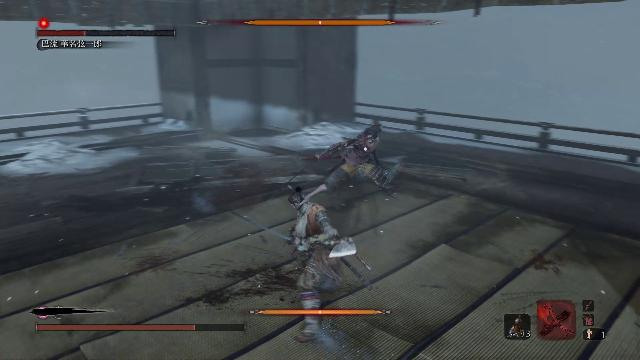sk: (285, 182, 365, 346)
